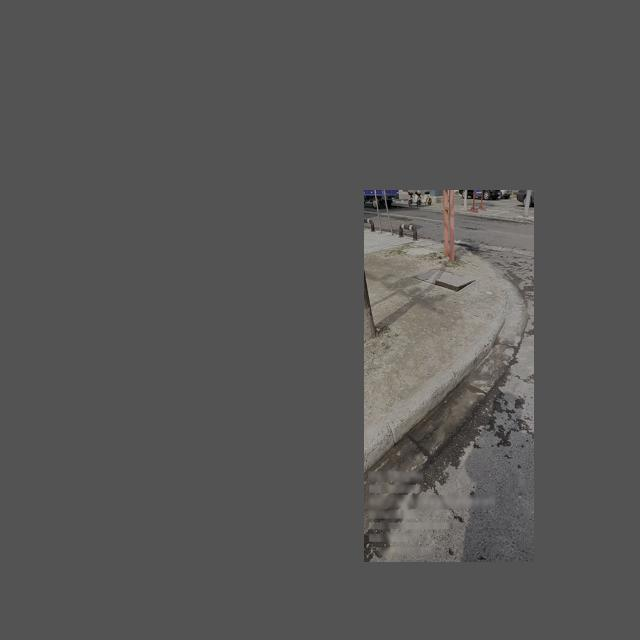uncovered: (413, 268, 477, 292)
